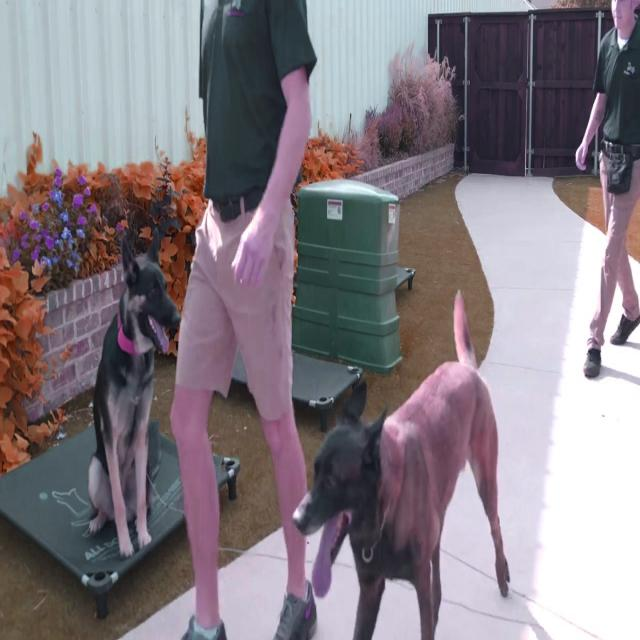Dog: (87, 232, 182, 554)
Unleashed_Dog: (244, 287, 510, 640)
